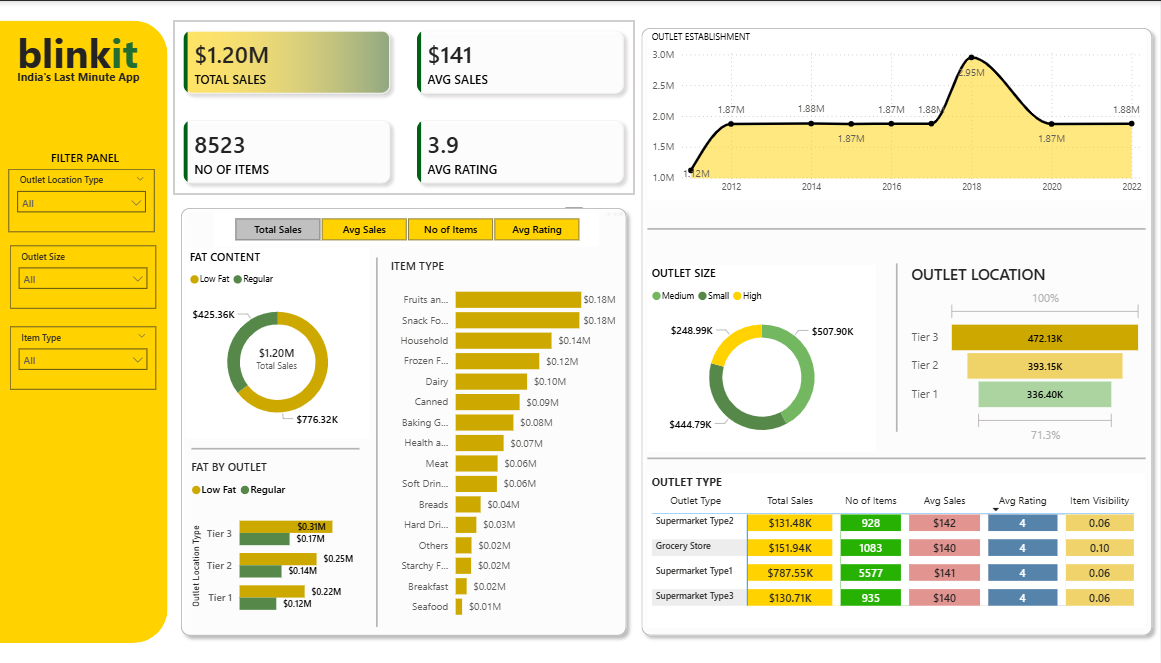

Layout of this report page (visuals, bound fields, positions):
{"tool":"powerbi","page":{"name":"Page 1","canvas":[1400,800],"ordinal":0},"visuals":[{"type":"shape","box":[0,23.9,204.3,750],"z":0},{"type":"cardVisual","fields":{"Data":["BlinkIT Grocery Data.Total Sales","BlinkIT Grocery Data.Avg Sales","BlinkIT Grocery Data.No of Items","BlinkIT Grocery Data.Avg Rating"]},"box":[211.9,23.8,554.8,209.5],"z":1000},{"type":"textbox","box":[17.4,23.9,171.3,79.7],"z":2000},{"type":"shape","box":[211.9,240.5,554.8,533.3],"z":3000},{"type":"textbox","box":[17.5,76.6,159.4,28.1],"z":4000},{"type":"slicer","fields":{"Values":["Metrics.Metrics"]},"box":[259.5,254.8,464.3,40.5],"z":5000},{"type":"donutChart","title":"FAT CONTENT","fields":{"Y":["BlinkIT Grocery Data.Avg Rating"],"Category":["BlinkIT Grocery Data.Item Fat Content"]},"box":[226.2,297.6,221.4,228.6],"z":5000,"group":"g1"},{"type":"clusteredBarChart","title":"FAT BY OUTLET","fields":{"Y":["BlinkIT Grocery Data.Avg Rating"],"Category":["BlinkIT Grocery Data.Outlet Location Type"],"Series":["BlinkIT Grocery Data.Item Fat Content"]},"box":[227.7,551.2,220.5,204.2],"z":6000},{"type":"cardVisual","fields":{"Data":["BlinkIT Grocery Data.Avg Rating"]},"box":[266.7,383.3,140.5,95.2],"z":7000,"group":"g1"},{"type":"shape","box":[233.1,509.8,202.4,59.5],"z":7000},{"type":"shape","box":[445,309.8,23.8,445.2],"z":8000},{"type":"barChart","title":"ITEM TYPE","fields":{"Y":["BlinkIT Grocery Data.Avg Rating"],"Category":["BlinkIT Grocery Data.Item Type"]},"box":[468.9,309.8,281,445.2],"z":9000},{"type":"shape","box":[766.7,23.8,633.3,750],"z":10000},{"type":"lineChart","title":"OUTLET ESTABLISHMENT","fields":{"Y":["Sum(BlinkIT Grocery Data.Outlet Establishment Year)"],"Category":["BlinkIT Grocery Data.Outlet Establishment Year"]},"box":[782.5,36.1,600,204.2],"z":11000},{"type":"shape","box":[783.3,264.3,600,21.4],"z":12000},{"type":"donutChart","title":"OUTLET SIZE","fields":{"Y":["BlinkIT Grocery Data.Avg Rating"],"Category":["BlinkIT Grocery Data.Outlet Size"]},"box":[783.3,317.5,275,225],"z":13000},{"type":"shape","box":[1077.1,317.1,11.4,202.9],"z":14000},{"type":"funnel","title":"OUTLET LOCATION","fields":{"Category":["BlinkIT Grocery Data.Outlet Location Type"],"Y":["Sum(BlinkIT Grocery Data.Sales)"]},"box":[1095.2,316.7,288.1,221.4],"z":15000},{"type":"shape","box":[783.3,540.5,600,21.4],"z":16000},{"type":"pivotTable","title":"OUTLET TYPE","fields":{"Rows":["BlinkIT Grocery Data.Outlet Type"],"Values":["BlinkIT Grocery Data.Total Sales","BlinkIT Grocery Data.No of Items","BlinkIT Grocery Data.Avg Sales","BlinkIT Grocery Data.Avg Rating","Avg(BlinkIT Grocery Data.Item Visibility)"]},"box":[783.3,569,600,185.7],"z":17000},{"type":"slicer","fields":{"Values":["BlinkIT Grocery Data.Outlet Location Type"]},"box":[11.9,202.4,176.2,76.2],"z":18000},{"type":"slicer","fields":{"Values":["BlinkIT Grocery Data.Outlet Size"]},"box":[14.3,295.2,176.2,76.2],"z":19000},{"type":"slicer","fields":{"Values":["BlinkIT Grocery Data.Item Type"]},"box":[14.3,392.9,176.2,76.2],"z":20000},{"type":"group","id":"g1","title":"Group 1","box":[226.2,297.6,221.4,228.6],"z":21000},{"type":"textbox","box":[16.7,173.8,145.2,28.6],"z":22000}]}

Visuals, with their boxes in screenshot pixels (x1, y1, x2, y2), scaled from the page's 1400x800 canvas onto the 1161x663 screenshot:
shape: (x1=0, y1=20, x2=169, y2=641)
cardVisual - BlinkIT Grocery Data.Total Sales x BlinkIT Grocery Data.Avg Sales: (x1=176, y1=20, x2=636, y2=193)
textbox: (x1=14, y1=20, x2=156, y2=86)
shape: (x1=176, y1=199, x2=636, y2=641)
textbox: (x1=15, y1=63, x2=147, y2=87)
slicer - Metrics.Metrics: (x1=215, y1=211, x2=600, y2=245)
"FAT CONTENT" donutChart: (x1=188, y1=247, x2=371, y2=436)
"FAT BY OUTLET" clusteredBarChart: (x1=189, y1=457, x2=372, y2=626)
cardVisual - BlinkIT Grocery Data.Avg Rating: (x1=221, y1=318, x2=338, y2=397)
shape: (x1=193, y1=422, x2=361, y2=472)
shape: (x1=369, y1=257, x2=389, y2=626)
"ITEM TYPE" barChart: (x1=389, y1=257, x2=622, y2=626)
shape: (x1=636, y1=20, x2=1160, y2=641)
"OUTLET ESTABLISHMENT" lineChart: (x1=649, y1=30, x2=1146, y2=199)
shape: (x1=650, y1=219, x2=1147, y2=237)
"OUTLET SIZE" donutChart: (x1=650, y1=263, x2=878, y2=450)
shape: (x1=893, y1=263, x2=903, y2=431)
"OUTLET LOCATION" funnel: (x1=908, y1=262, x2=1147, y2=446)
shape: (x1=650, y1=448, x2=1147, y2=466)
"OUTLET TYPE" pivotTable: (x1=650, y1=472, x2=1147, y2=625)
slicer - BlinkIT Grocery Data.Outlet Location Type: (x1=10, y1=168, x2=156, y2=231)
slicer - BlinkIT Grocery Data.Outlet Size: (x1=12, y1=245, x2=158, y2=308)
slicer - BlinkIT Grocery Data.Item Type: (x1=12, y1=326, x2=158, y2=389)
"Group 1" group: (x1=188, y1=247, x2=371, y2=436)
textbox: (x1=14, y1=144, x2=134, y2=168)
